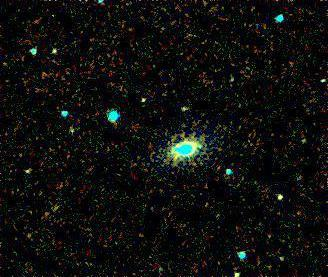star: (160, 130, 190, 160)
